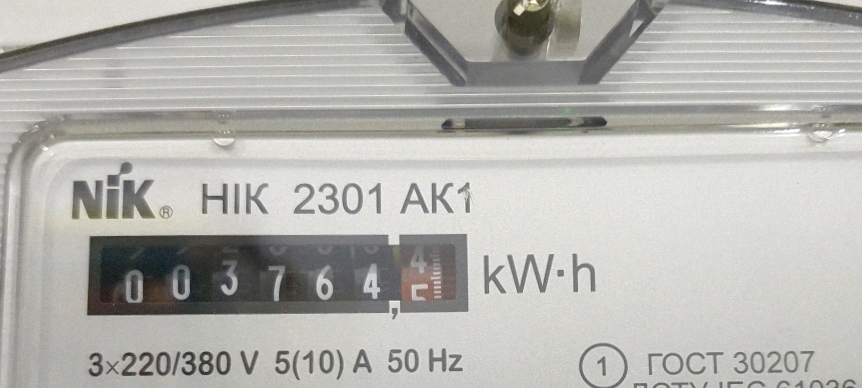0: (121, 266, 146, 304), (169, 261, 192, 301)
3: (217, 257, 240, 297)
4: (362, 260, 381, 300), (408, 242, 429, 274)
5: (408, 281, 430, 302)
6: (314, 262, 335, 301)
7: (265, 261, 288, 303)
screen: (72, 216, 484, 330)
